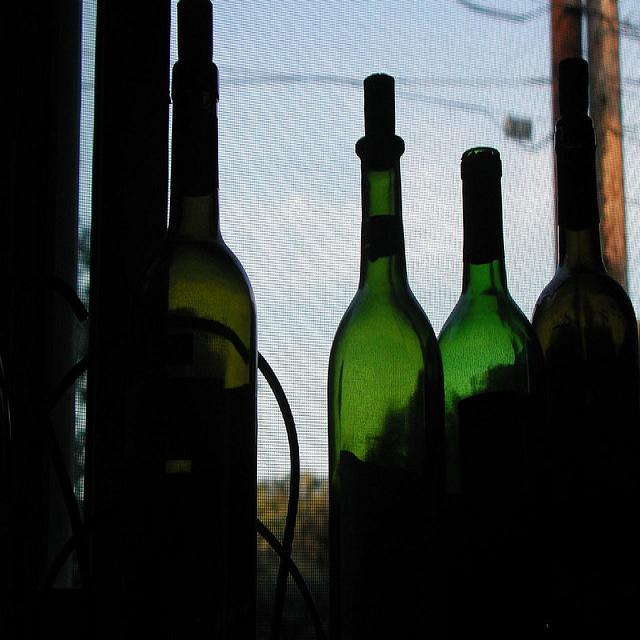Bottle: (164, 3, 275, 640), (540, 28, 640, 640), (346, 68, 436, 640), (453, 111, 528, 640)
